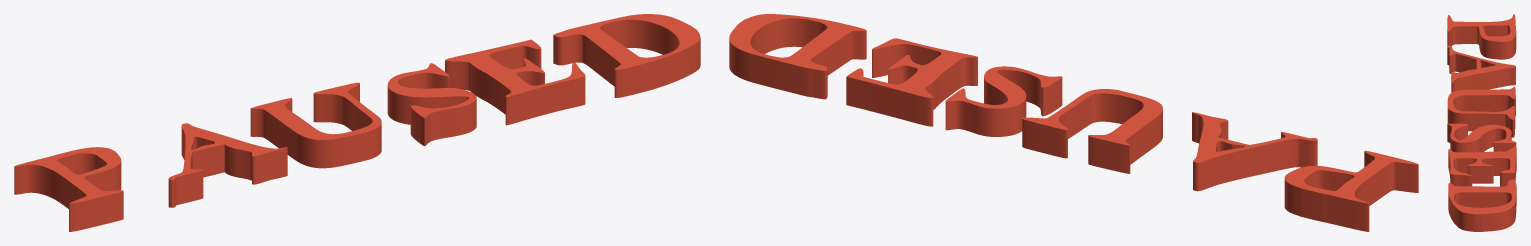
File: pause.fbx
The picture shows the model from 3 angles, left to right: view 1: azimuth 30°, elevation 25°; view 2: azimuth 150°, elevation 25°; view 3: azimuth 270°, elevation 25°; orthographic projection. The views are drawn at different scales.
Visible parts, largest first — view 1: Text; view 2: Text; view 3: Text.
Boxes of the visible parts, x1,y1,x2,y2 form: Text: (14, 14, 700, 231); Text: (729, 14, 1418, 231); Text: (1447, 14, 1516, 231).
Size of the model in its own units: 411 by 17 by 60.39.
